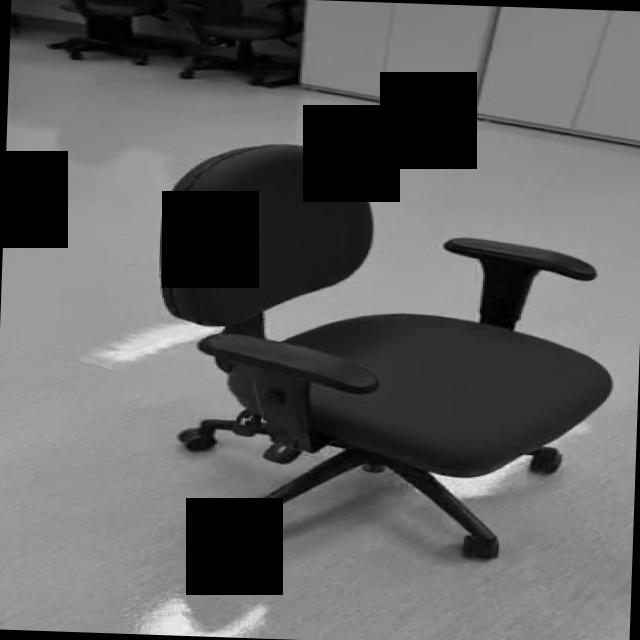cadeira-azul: (151, 138, 621, 562)
